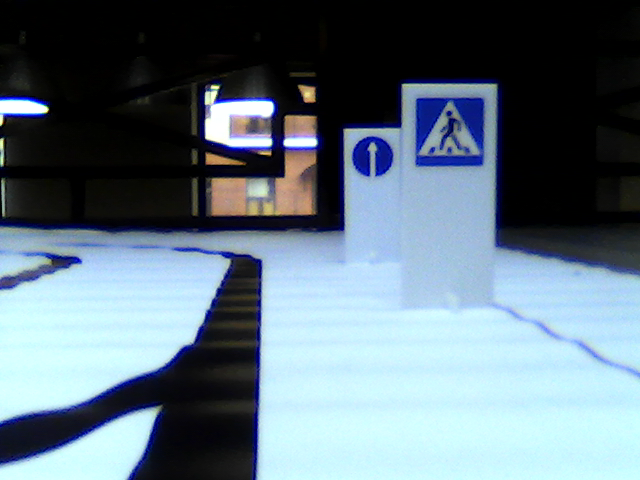forw: (350, 135, 400, 178)
pesh: (411, 94, 486, 170)
